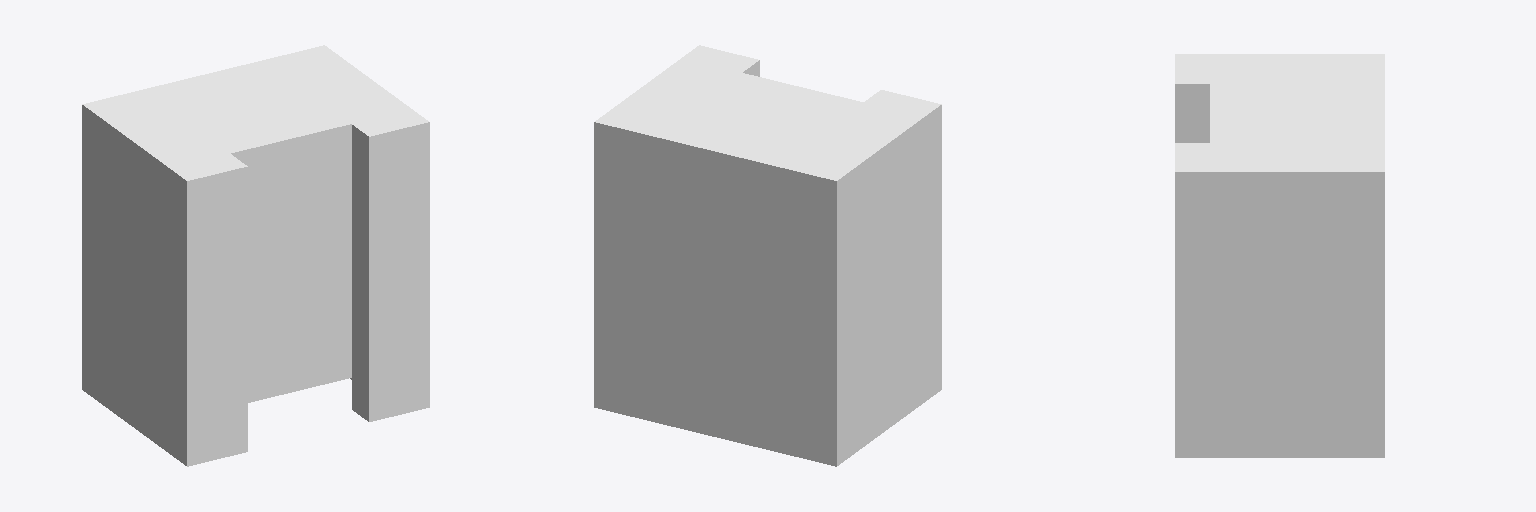
Rendered from yukari_body_0.1.obj.
3 views of the same model, side by side, from view 1: azimuth 30°, elevation 25°; view 2: azimuth 150°, elevation 25°; view 3: azimuth 270°, elevation 25° (orthographic).
Size of the model in its own units: 8 by 9 by 6.